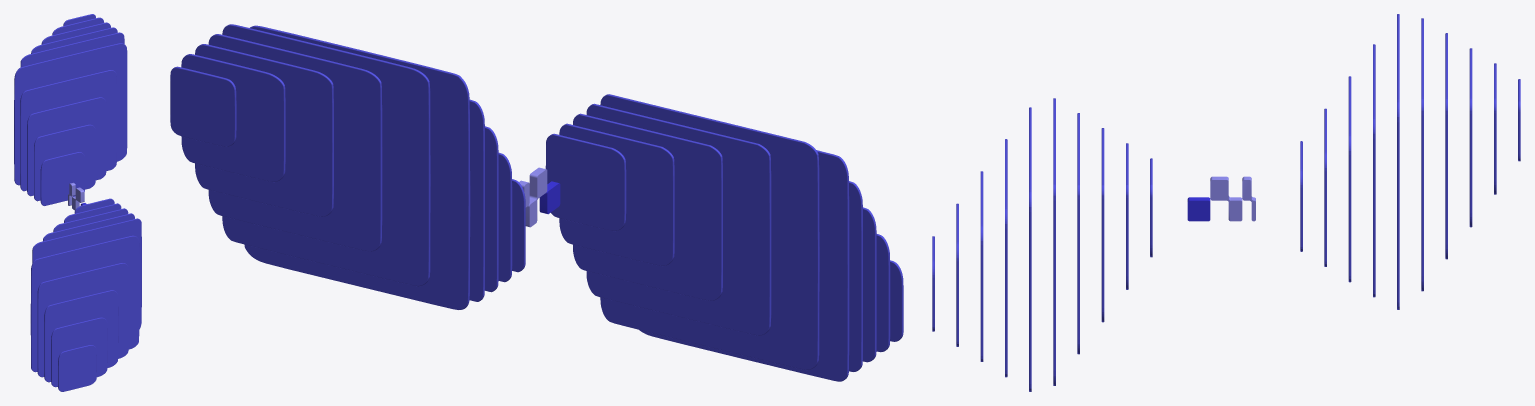
Rendered from banner.glb.
3 renders of one model, left to right at view 1: azimuth 30°, elevation 25°; view 2: azimuth 150°, elevation 25°; view 3: azimuth 270°, elevation 25°, orthographic. The views are drawn at different scales.
Parts seen in each view (by area): view 1: panel_r, panel_l, logo_m, logo_r; view 2: panel_r, panel_l, logo_m; view 3: panel_l, panel_r, logo_m, logo_l.
Boxes of the visible parts, <box> form: panel_r: <box>14,14,127,205</box>; panel_l: <box>30,198,141,391</box>; logo_m: <box>72,187,84,210</box>; logo_r: <box>68,182,75,205</box>; panel_r: <box>170,24,525,309</box>; panel_l: <box>545,94,903,381</box>; logo_m: <box>525,167,547,227</box>; panel_l: <box>932,98,1152,391</box>; panel_r: <box>1300,14,1520,309</box>; logo_m: <box>1210,176,1242,221</box>; logo_l: <box>1187,197,1210,221</box>.
Size of the model in its own units: 3.46 by 3.45 by 4.86.
